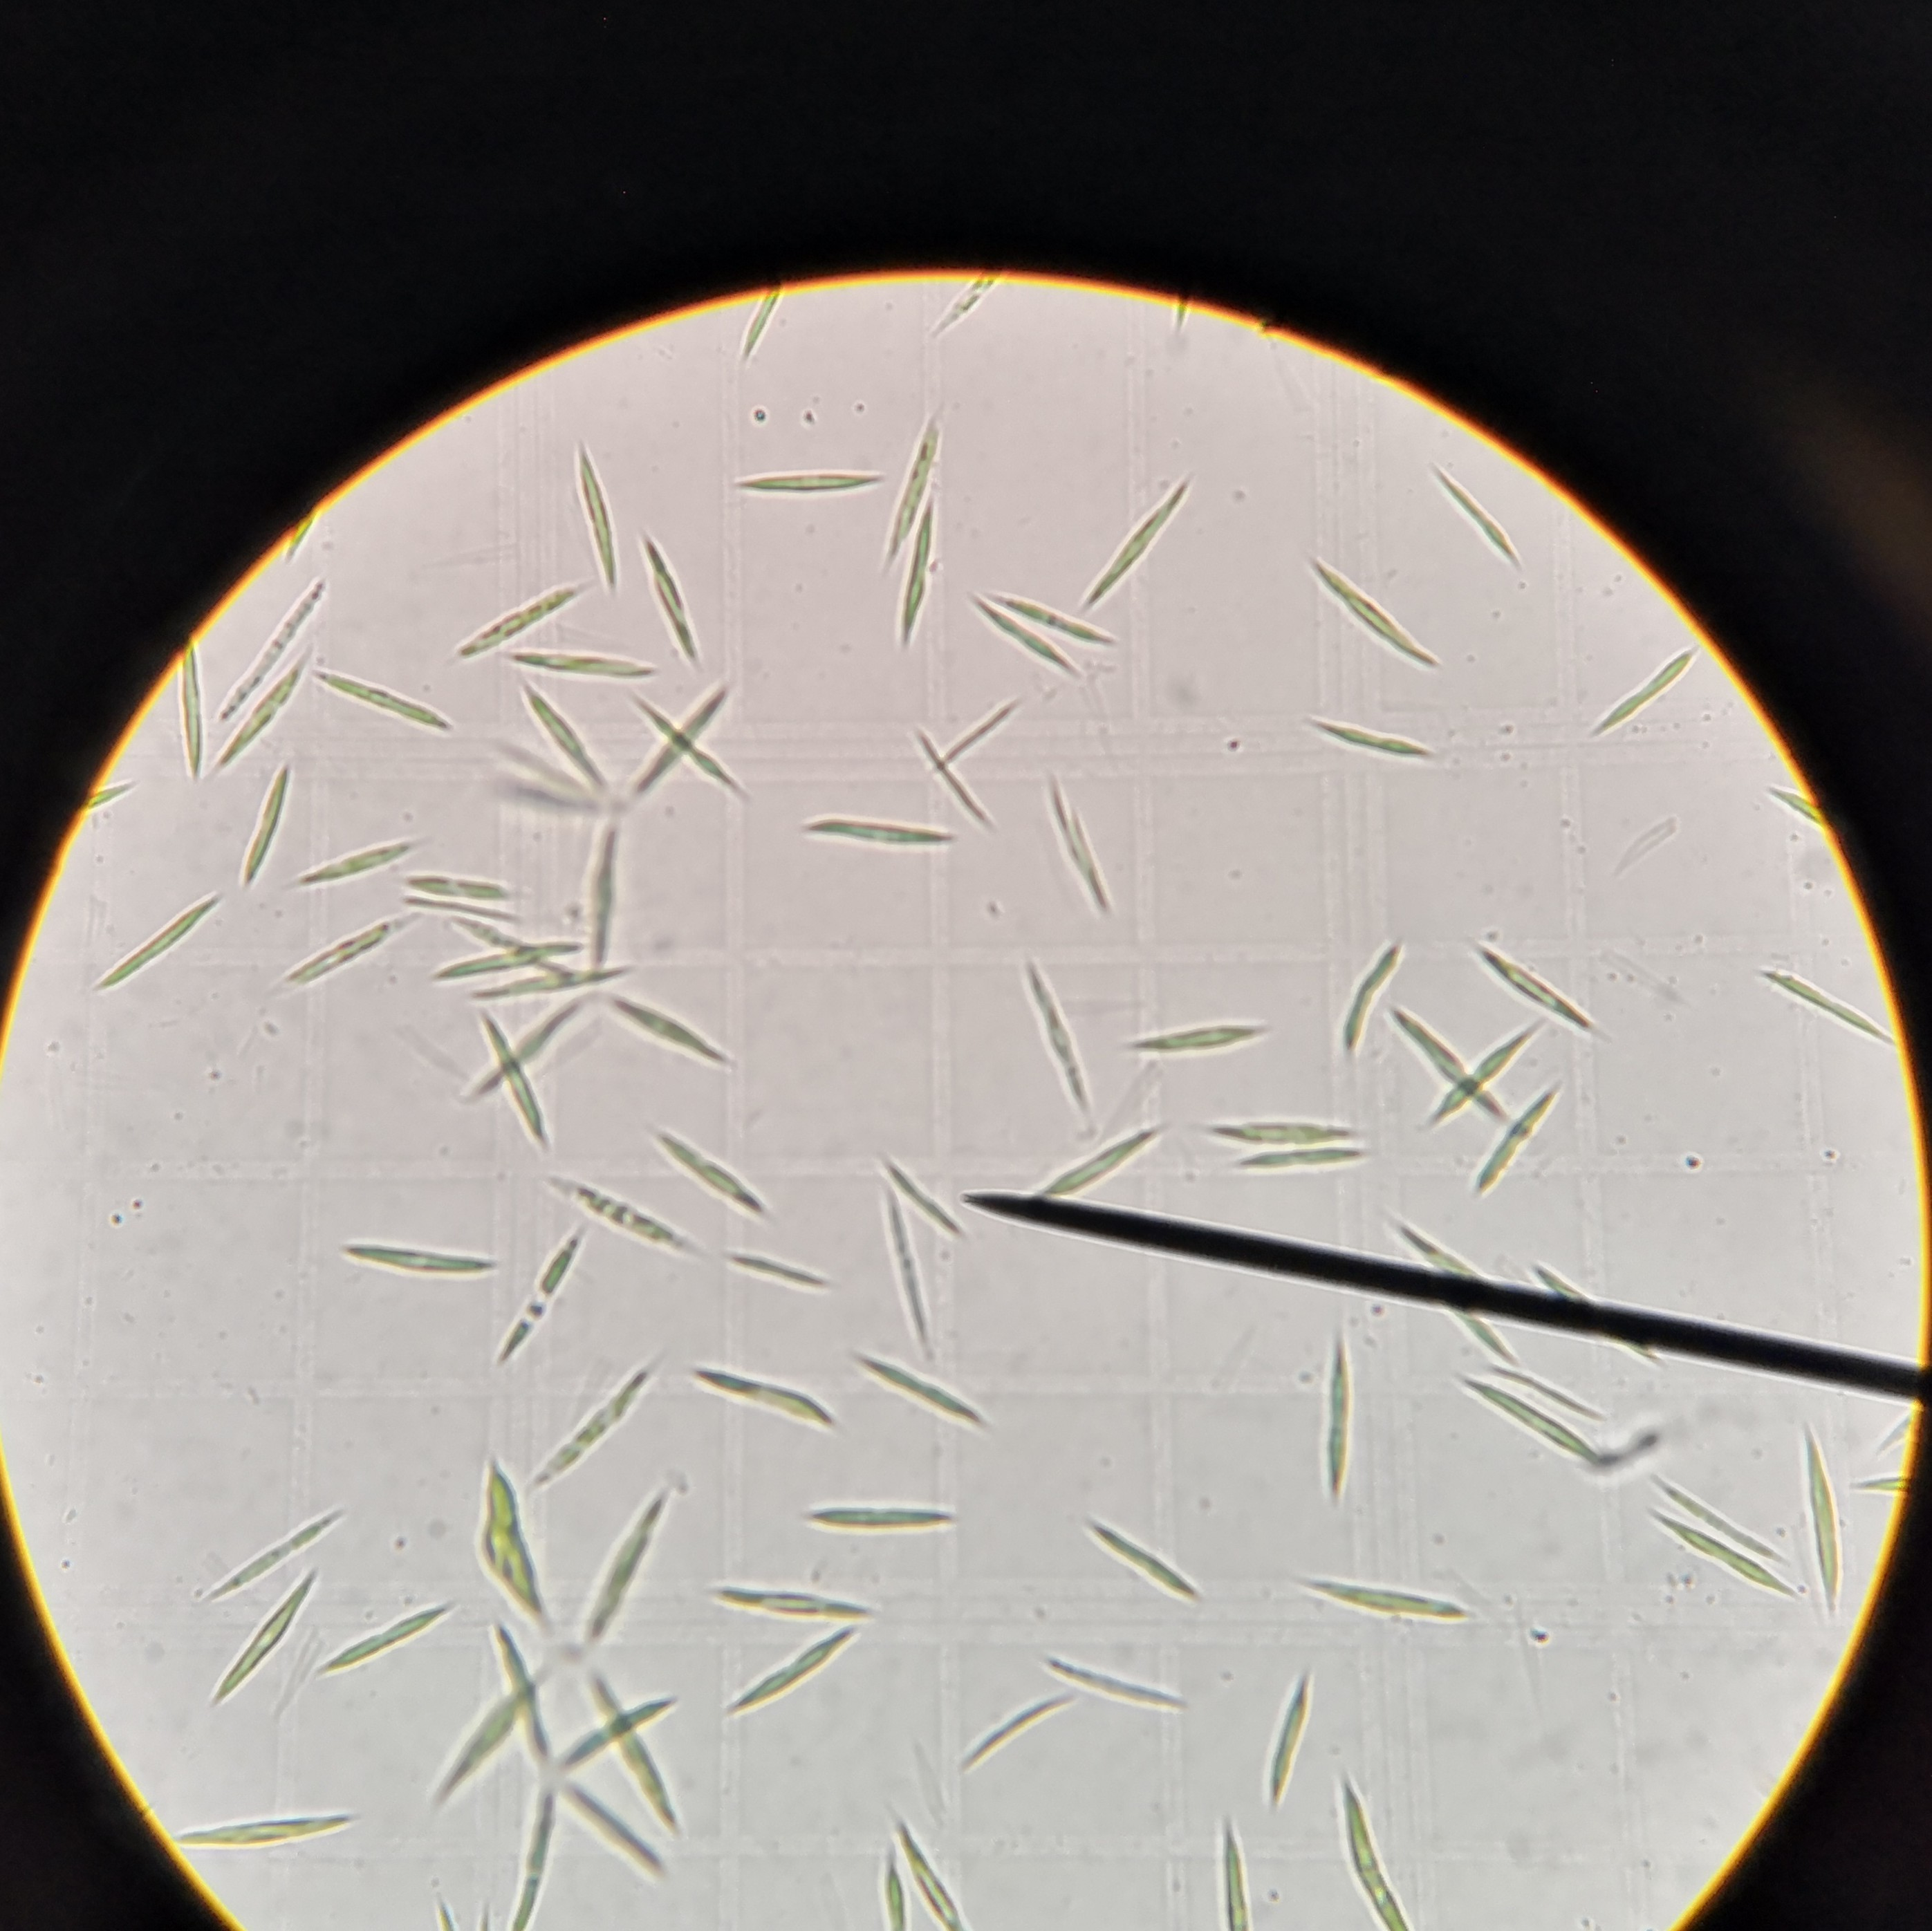Microalgae: (525, 1370, 658, 1478), (1536, 1266, 1670, 1372), (1644, 1510, 1796, 1602), (1405, 1027, 1539, 1130), (214, 575, 320, 704), (433, 1666, 533, 1802), (76, 888, 211, 987), (1764, 958, 1900, 1056), (1332, 1772, 1412, 1931), (1304, 566, 1431, 661), (207, 1503, 334, 1599), (1792, 1415, 1847, 1634), (886, 1814, 989, 1931), (591, 1680, 672, 1823), (265, 909, 409, 990), (639, 700, 752, 803), (214, 1583, 308, 1706), (1081, 481, 1182, 596), (471, 1468, 543, 1627), (630, 684, 727, 803), (1017, 955, 1090, 1112), (554, 1687, 697, 1767), (589, 1484, 658, 1648), (1651, 1477, 1776, 1563), (729, 1630, 858, 1713), (556, 1782, 665, 1880), (1046, 1650, 1187, 1722), (548, 1185, 704, 1250), (1463, 1388, 1598, 1462), (506, 1227, 577, 1367), (701, 1362, 842, 1431), (441, 582, 579, 653), (566, 440, 626, 601), (518, 681, 605, 792), (656, 1130, 768, 1215), (1086, 1521, 1200, 1604), (1592, 651, 1686, 748), (1486, 951, 1591, 1034), (853, 1360, 978, 1429), (1304, 1570, 1472, 1622), (318, 1602, 446, 1669), (909, 727, 996, 824), (1467, 1088, 1553, 1185), (1431, 467, 1516, 566), (221, 658, 297, 767), (1341, 935, 1408, 1056), (488, 1630, 545, 1772), (1035, 1123, 1157, 1188), (950, 1701, 1063, 1770), (1398, 1204, 1500, 1280), (479, 1020, 545, 1139), (975, 596, 1065, 679), (897, 486, 939, 658), (616, 1001, 743, 1057), (791, 812, 959, 854), (241, 764, 299, 886), (1049, 783, 1109, 900), (1290, 713, 1437, 760), (883, 1188, 927, 1346), (191, 1805, 361, 1846), (644, 538, 699, 663), (333, 1238, 488, 1282), (318, 677, 448, 730), (989, 591, 1113, 645), (706, 1581, 883, 1618), (1261, 1676, 1306, 1807), (803, 1498, 957, 1535), (439, 932, 577, 973), (172, 642, 211, 783), (938, 706, 1017, 775), (1215, 1816, 1263, 1931), (1127, 1022, 1267, 1059), (510, 1798, 548, 1931), (301, 840, 409, 886), (925, 276, 1000, 340), (1203, 1116, 1350, 1148), (725, 1247, 821, 1294), (462, 971, 617, 999), (584, 820, 614, 964), (1318, 1335, 1346, 1487), (1447, 1305, 1520, 1362), (867, 1848, 915, 1931), (743, 469, 886, 495), (1228, 1153, 1375, 1176), (745, 278, 782, 366), (398, 868, 518, 895), (1856, 1462, 1909, 1503), (83, 782, 140, 815)
